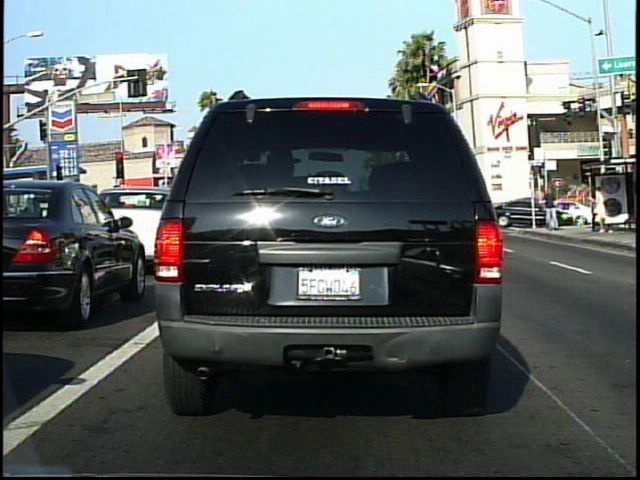person: (590, 183, 613, 235), (540, 184, 561, 234)
